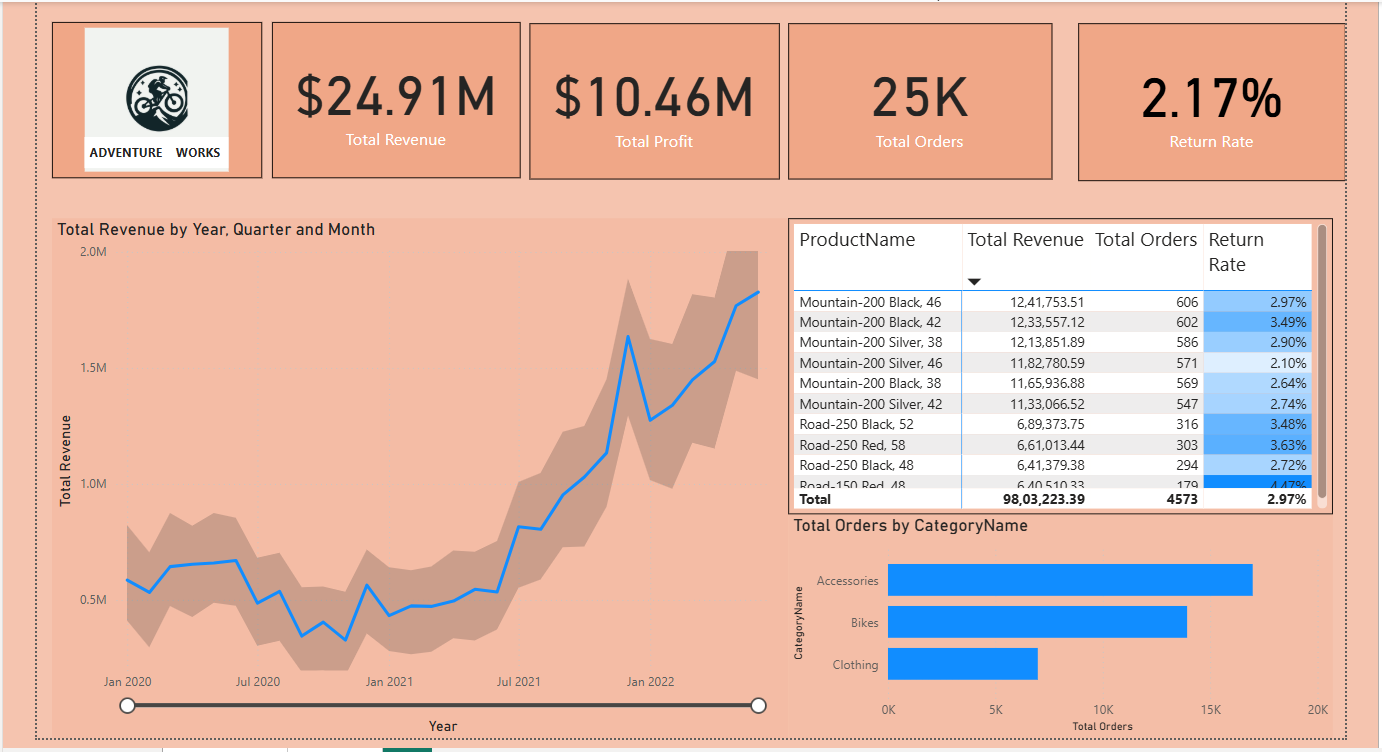

Layout of this report page (visuals, bound fields, positions):
{"tool":"powerbi","page":{"name":"Dashboard","canvas":[1280,720],"ordinal":0},"visuals":[{"type":"card","fields":{"Values":["MEASURE TABLE.Total Revenue"]},"box":[229.9,19.6,243.3,152.9],"z":0},{"type":"card","fields":{"Values":["MEASURE TABLE.Total Profit"]},"box":[481.8,20.8,244.6,152.9],"z":1000},{"type":"card","fields":{"Values":["MEASURE TABLE.Total Orders"]},"box":[734.9,20.8,258,152.9],"z":2000},{"type":"card","fields":{"Values":["MEASURE TABLE.Return Rate"]},"box":[1018.6,20.8,261.7,154.1],"z":3000},{"type":"lineChart","fields":{"Category":["Calendar Lookup.Start of Month.Variation.Date Hierarchy.Year","Calendar Lookup.Start of Month.Variation.Date Hierarchy.Quarter","Calendar Lookup.Start of Month.Variation.Date Hierarchy.Month","Calendar Lookup.Start of Month.Variation.Date Hierarchy.Day"],"Y":["MEASURE TABLE.Total Revenue"]},"box":[14.7,211.6,720.2,508.7],"z":4000},{"type":"pivotTable","fields":{"Rows":["Product Lookup.ProductName"],"Values":["MEASURE TABLE.Total Revenue","MEASURE TABLE.Total Orders","MEASURE TABLE.Return Rate"]},"box":[734.9,211.6,533.2,289.8],"z":5000},{"type":"clusteredBarChart","fields":{"Category":["Product Categories Lookup.CategoryName"],"Y":["MEASURE TABLE.Total Orders"]},"box":[734.9,501.4,533.2,218.9],"z":6000},{"type":"image","box":[14.7,19.6,205.4,152.9],"z":6001},{"type":"textbox","box":[46.5,132.1,140.6,30.6],"z":6002}]}

Visuals, with their boxes in screenshot pixels (x1, y1, x2, y2):
card - MEASURE TABLE.Total Revenue: (269,17,520,174)
card - MEASURE TABLE.Total Profit: (529,18,781,175)
card - MEASURE TABLE.Total Orders: (790,18,1055,175)
card - MEASURE TABLE.Return Rate: (1082,18,1351,177)
lineChart - Calendar Lookup.Start of Month.Variation.Date Hierarchy.Year x Calendar Lookup.Start of Month.Variation.Date Hierarchy.Quarter: (48,214,790,738)
pivotTable - Product Lookup.ProductName x MEASURE TABLE.Total Revenue: (790,214,1339,513)
clusteredBarChart - Product Categories Lookup.CategoryName x MEASURE TABLE.Total Orders: (790,513,1339,738)
image: (48,17,259,174)
textbox: (80,132,225,164)
